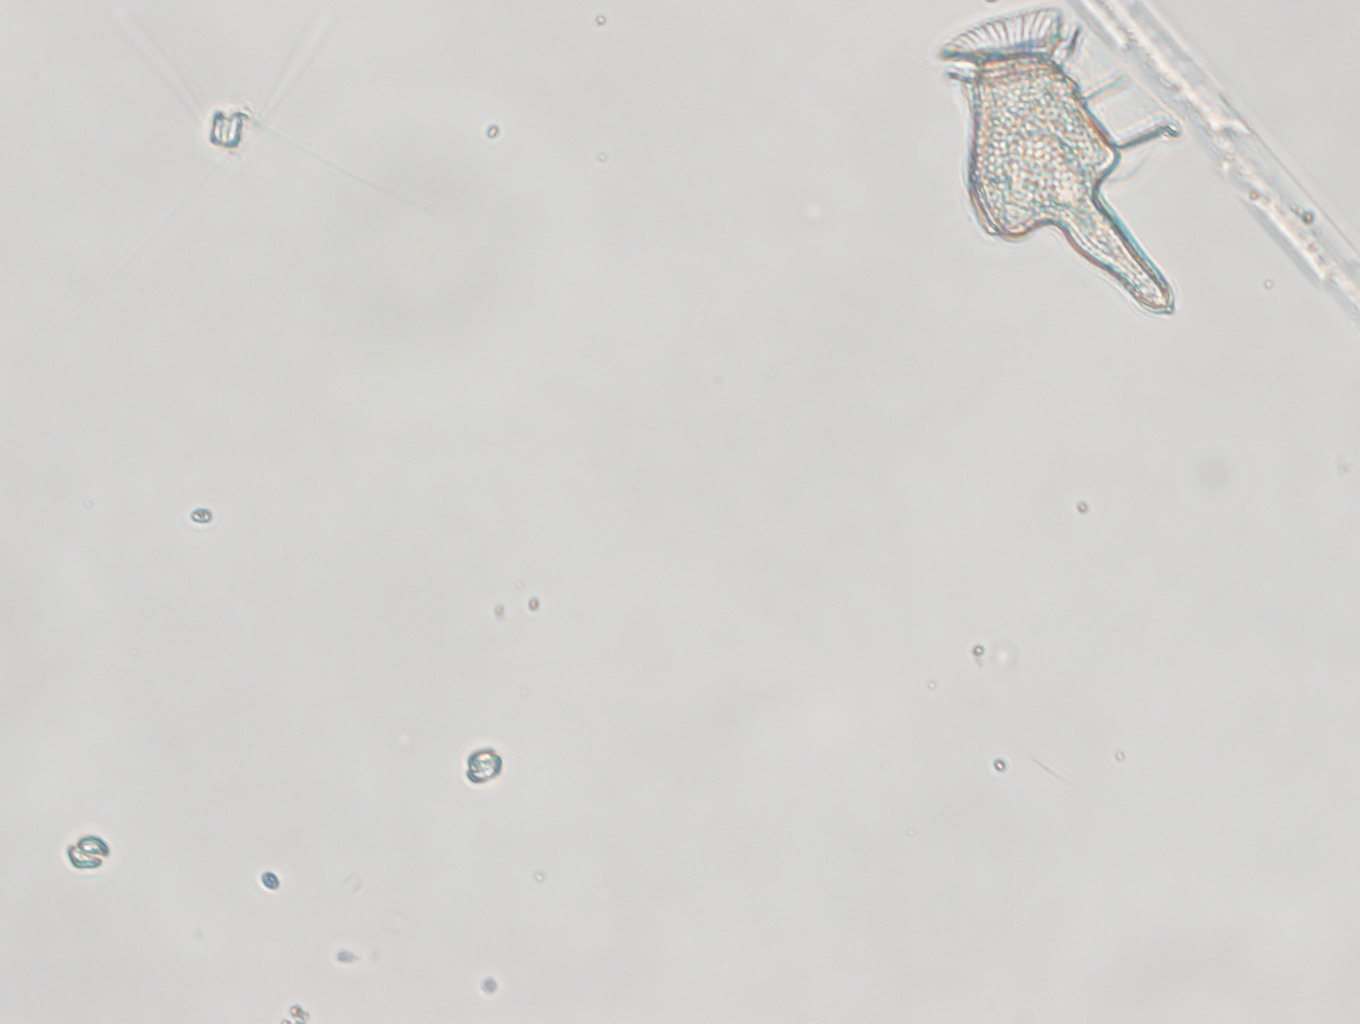chaetoceros: (90, 3, 428, 245)
dinophysis caudata: (934, 8, 1176, 319)
